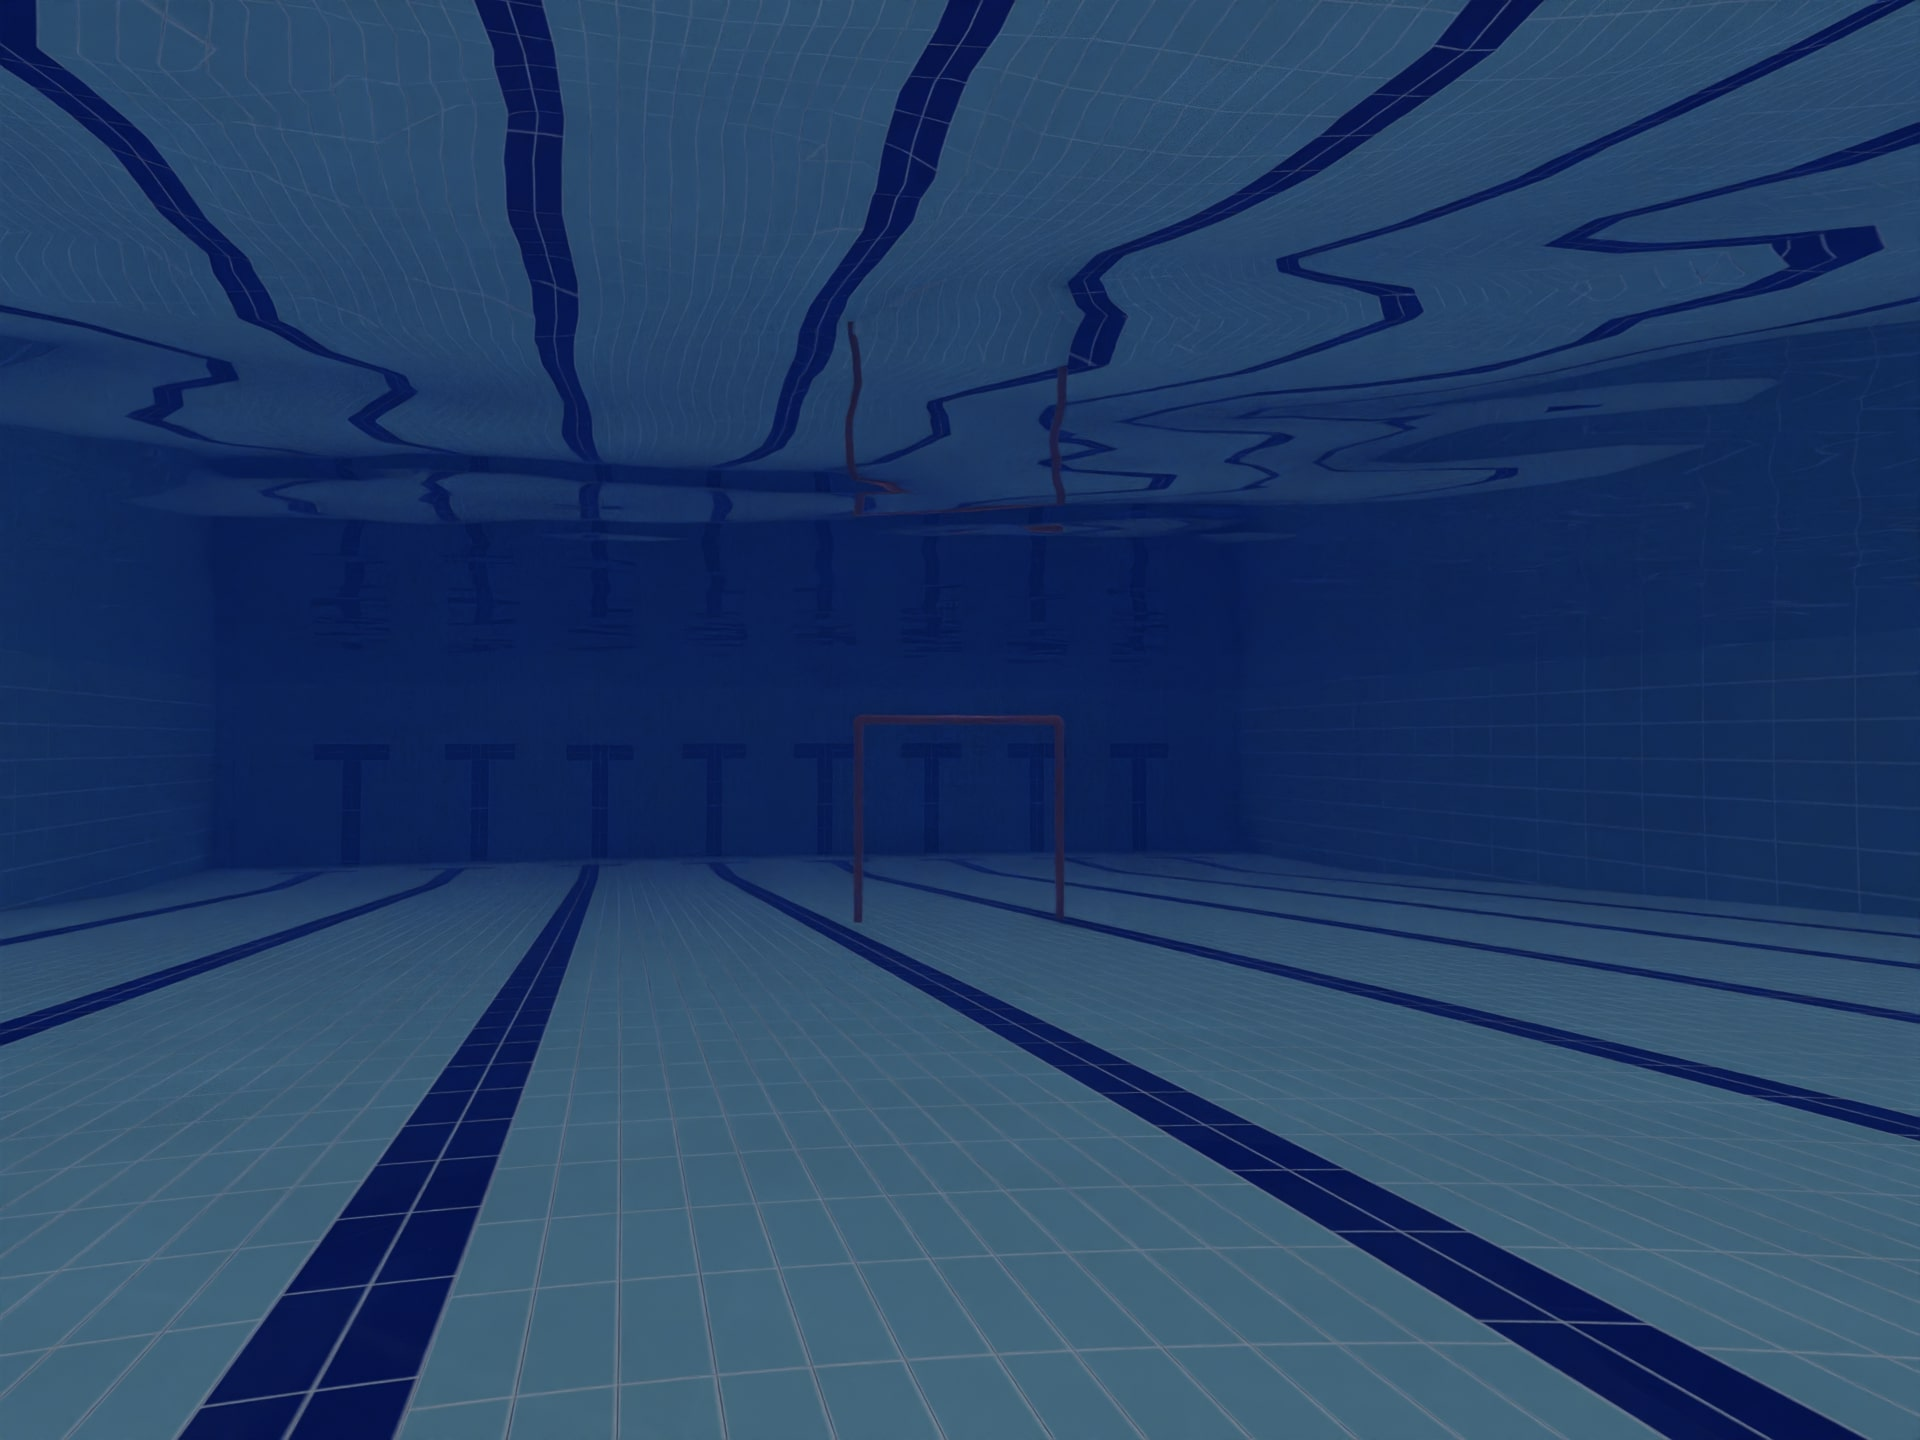gate: (828, 691, 1104, 929)
